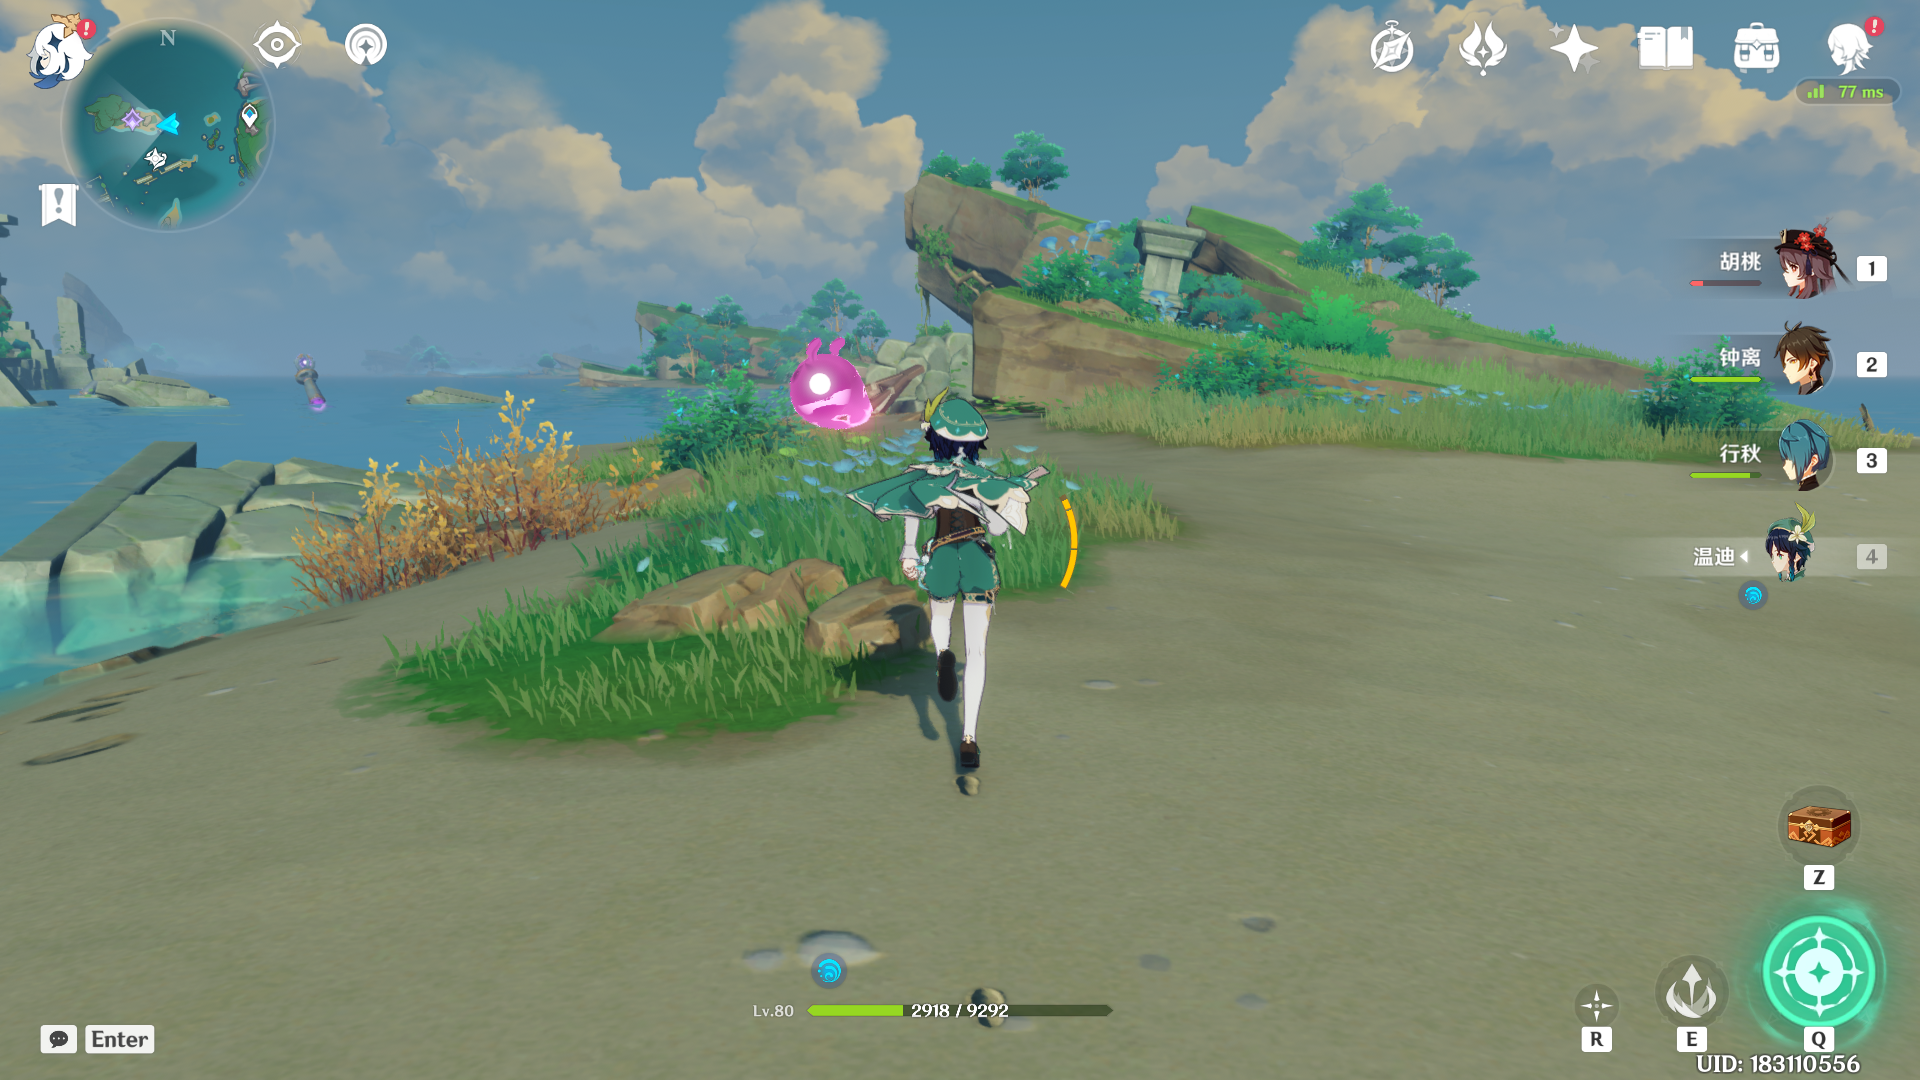character: (851, 377, 1104, 822)
